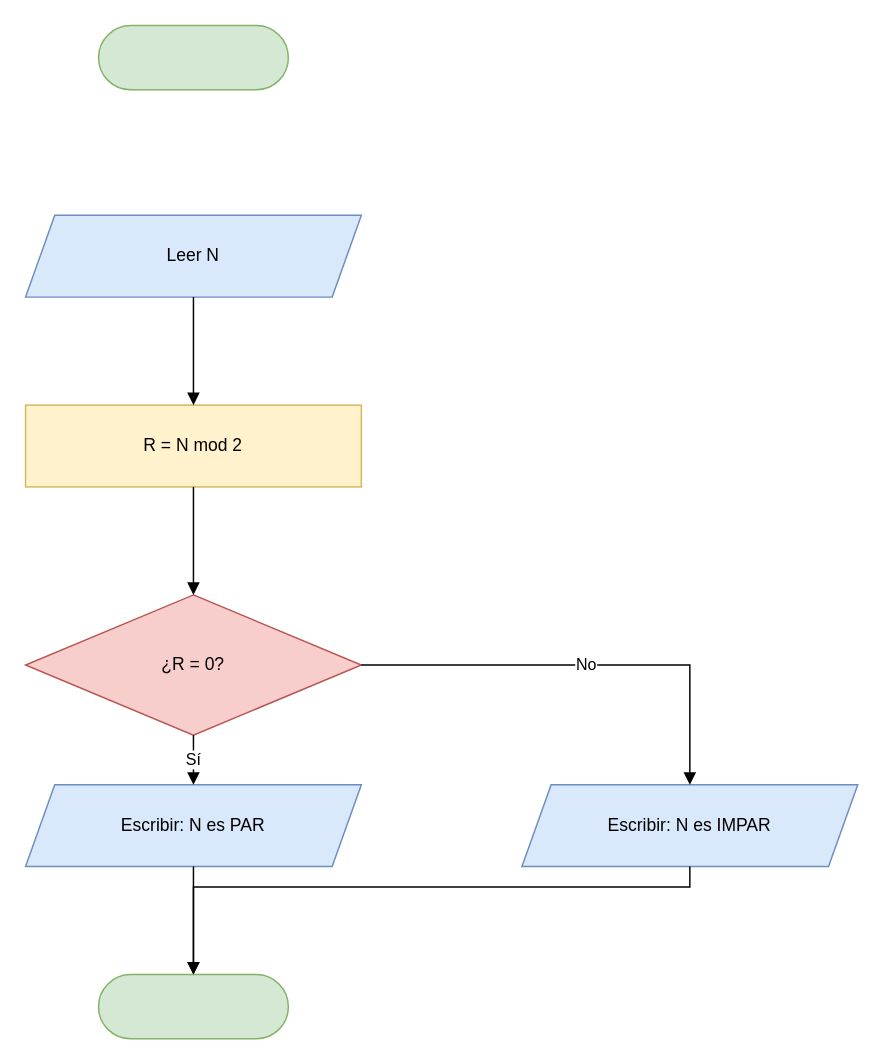
Some shapes in this 883 by 1064 pixel diagram are drawn without their labels. Here are the shapes that lost their labels. From the top down, the centre of each, then its label:
point 192,57: Inicio
point 192,1006: Fin
